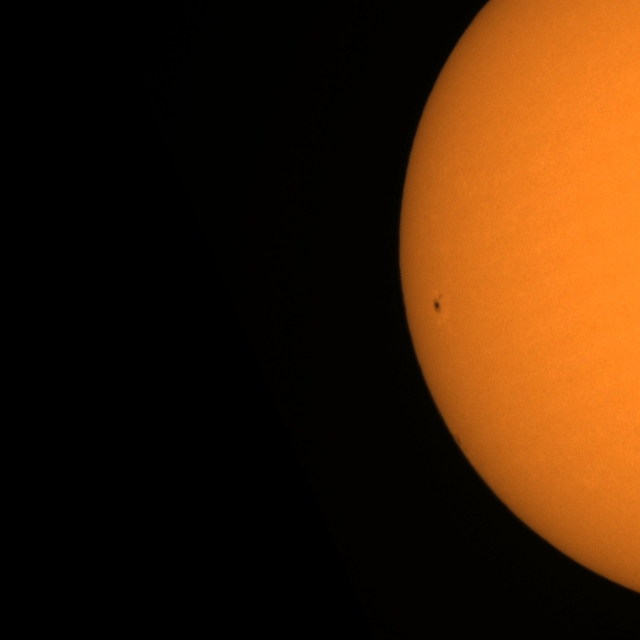sunspot: (432, 292, 444, 314)
